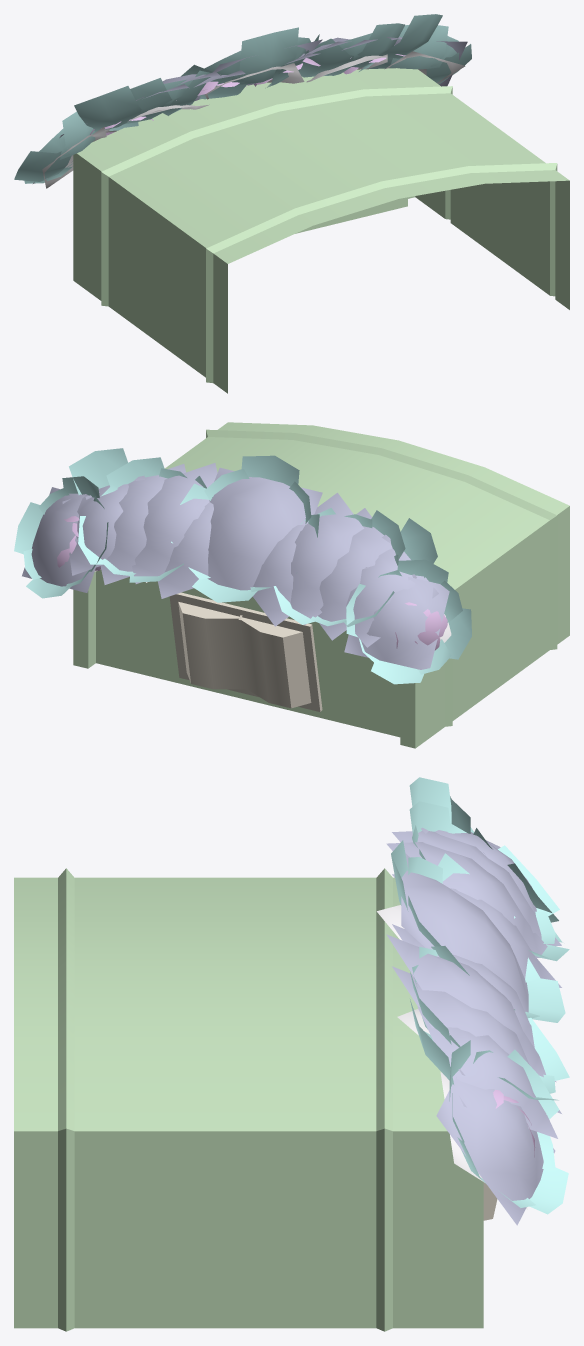
The picture shows the model from 3 angles, top to bottom: view 1: azimuth 30°, elevation 25°; view 2: azimuth 150°, elevation 25°; view 3: azimuth 270°, elevation 25°; orthographic projection. The views are drawn at different scales.
Parts seen in each view (by area): view 1: Object106; view 2: Object106; view 3: Object106.
Boxes of the visible parts, bbox=[...] form: Object106: bbox=[14, 14, 569, 393]; Object106: bbox=[14, 422, 569, 748]; Object106: bbox=[14, 777, 569, 1331].
Size of the model in its own units: 12484 by 6017 by 8720.
